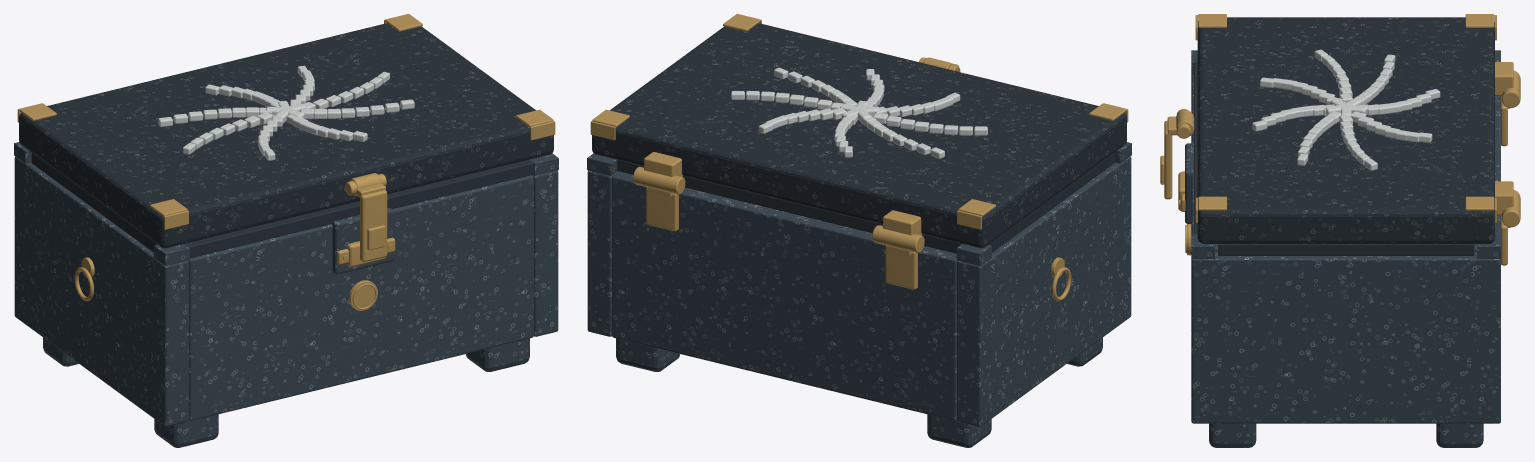
The model's file is belgium.glb.
3 views of the same model, side by side, from view 1: azimuth 30°, elevation 25°; view 2: azimuth 150°, elevation 25°; view 3: azimuth 270°, elevation 25° (orthographic). The views are drawn at different scales.
Parts seen in each view (by area): view 1: Lid / polished slab, Stone / front, Stone / side, Mineral seam / long, Stone / side.001, Latch / lifting hasp, Stone / clasp seat, Mineral seam / side, Stone foot, Stone foot.002, Stone / rim corner, Medallion / solid emblem; view 2: Lid / polished slab, Stone / rear, Stone / side, Stone / side.001, Mineral seam / long.001, Mineral seam / side, Stone foot.001, Stone foot.003, Hinge / fixed mount.001, Hinge / fixed mount, Hinge / fixed barrel.001, Hinge / fixed barrel (+4 smaller); view 3: Lid / polished slab, Stone / side.001, Mineral seam / side.001, Stone foot.003, Stone foot.002, Mineral seam / long, Latch / lifting hasp, Stone / clasp seat, Stone / rear, Hinge / moving leaf, Hinge / moving leaf.001, Hinge / fixed barrel (+7 smaller).
Part boxes in pixels (left/top/right/bottom): Lid / polished slab: left=19, top=23, right=553, bottom=248; Stone / front: left=188, top=175, right=533, bottom=420; Stone / side: left=14, top=156, right=188, bottom=426; Mineral seam / long: left=184, top=159, right=533, bottom=258; Stone / side.001: left=532, top=170, right=558, bottom=336; Latch / lifting hasp: left=360, top=190, right=387, bottom=261; Stone / clasp seat: left=332, top=208, right=393, bottom=274; Mineral seam / side: left=31, top=153, right=157, bottom=252; Stone foot: left=154, top=414, right=218, bottom=447; Stone foot.002: left=465, top=338, right=529, bottom=371; Stone / rim corner: left=154, top=244, right=189, bottom=265; Medallion / solid emblem: left=348, top=280, right=377, bottom=310; Lid / polished slab: left=592, top=23, right=1126, bottom=248; Stone / rear: left=612, top=171, right=957, bottom=420; Stone / side: left=957, top=156, right=1131, bottom=426; Stone / side.001: left=587, top=170, right=618, bottom=336; Mineral seam / long.001: left=617, top=160, right=961, bottom=253; Mineral seam / side: left=988, top=153, right=1114, bottom=252; Stone foot.001: left=927, top=414, right=991, bottom=447; Stone foot.003: left=616, top=338, right=680, bottom=371; Hinge / fixed mount.001: left=646, top=187, right=678, bottom=231; Hinge / fixed mount: left=885, top=245, right=917, bottom=289; Hinge / fixed barrel.001: left=633, top=166, right=685, bottom=194; Hinge / fixed barrel: left=872, top=225, right=924, bottom=252; Lid / polished slab: left=1197, top=17, right=1494, bottom=243; Stone / side.001: left=1191, top=251, right=1500, bottom=423; Mineral seam / side.001: left=1218, top=244, right=1474, bottom=255; Stone foot.003: left=1436, top=423, right=1483, bottom=447; Stone foot.002: left=1209, top=423, right=1256, bottom=447; Mineral seam / long: left=1194, top=62, right=1197, bottom=234; Latch / lifting hasp: left=1164, top=120, right=1172, bottom=199; Stone / clasp seat: left=1185, top=143, right=1193, bottom=223; Stone / rear: left=1495, top=95, right=1500, bottom=234; Hinge / moving leaf: left=1495, top=62, right=1513, bottom=95; Hinge / moving leaf.001: left=1495, top=181, right=1513, bottom=214; Hinge / fixed barrel: left=1501, top=70, right=1520, bottom=107.
Size of the model in its own units: 3.79 by 2.26 by 2.88.
5 materials, 2 textured.
